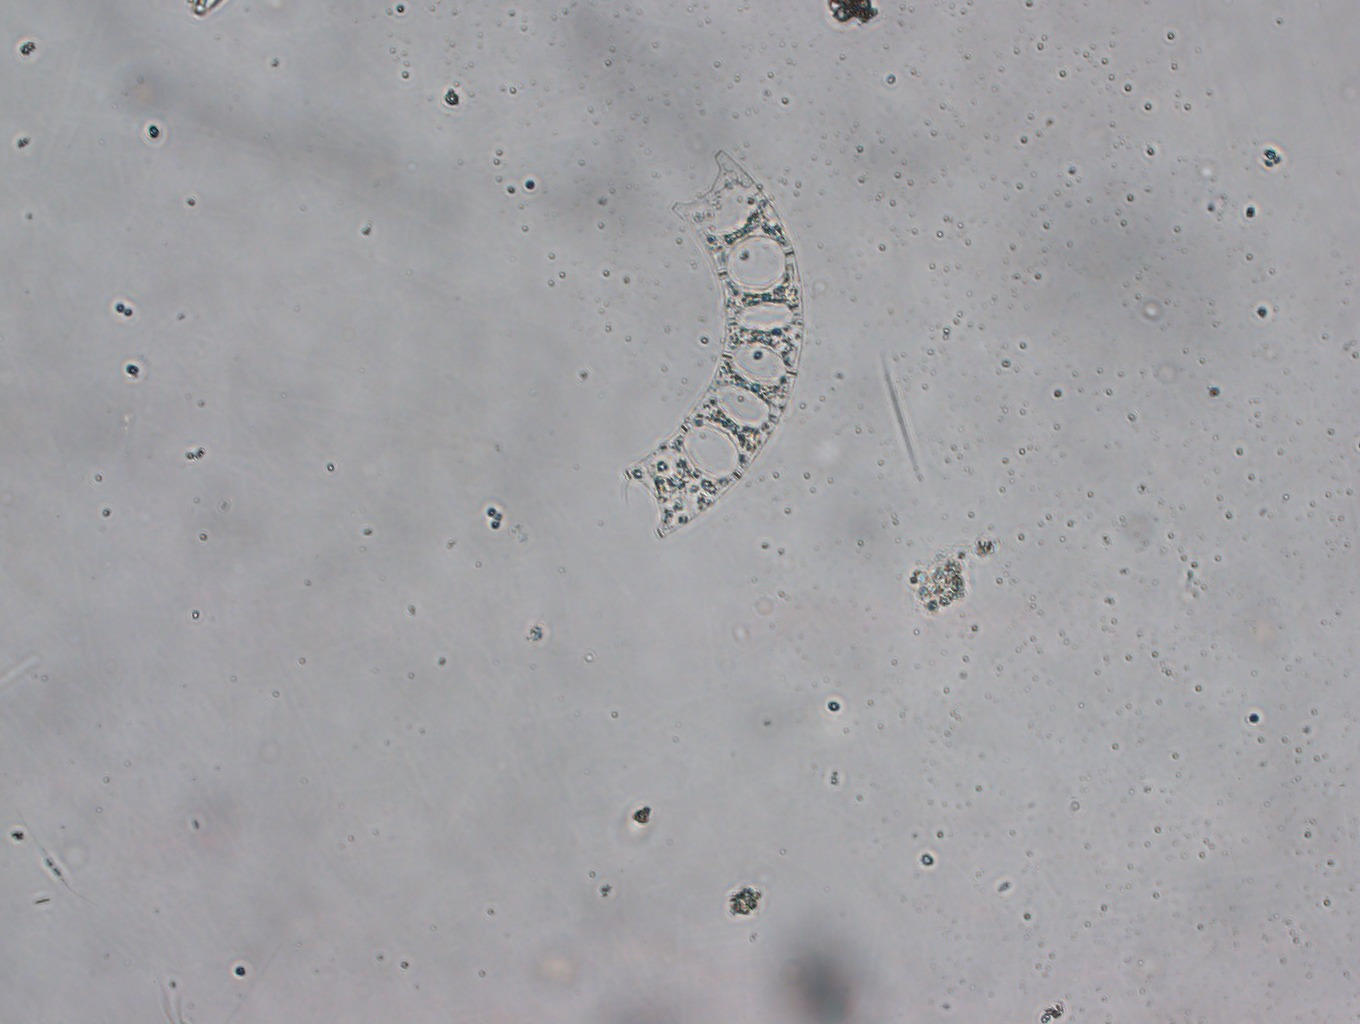eucampia: (615, 150, 811, 543)
